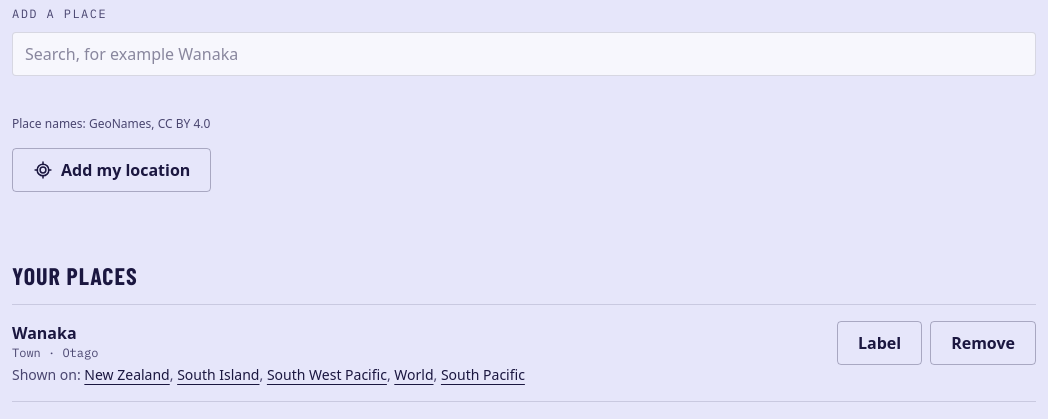
Test: <PinsPage /> › the pins › goes back to saying how to pin when the last is removed
Click the button with aria-label "Remove Wanaka": (983, 343) [930,321,1036,365]
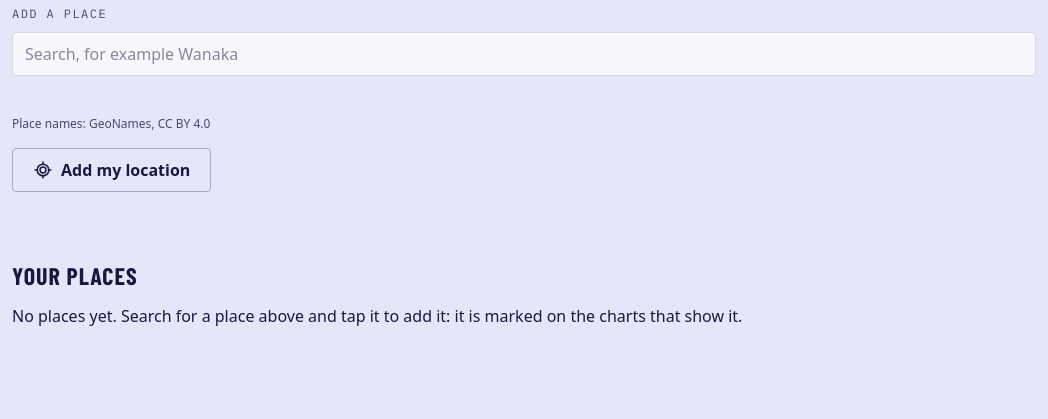
Expected: the text "No places yet" is shown, [12,305,742,327]
